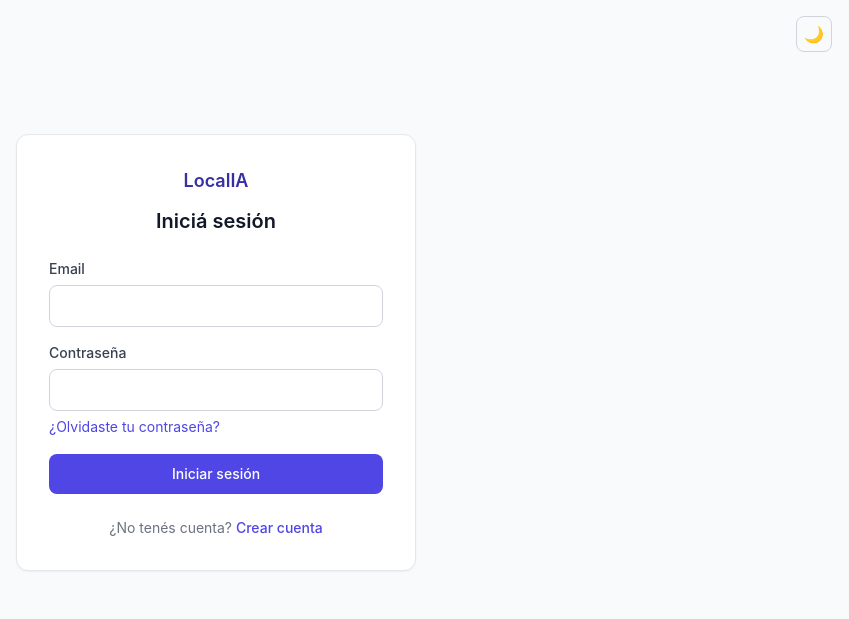
Scenario: LoginPage › muestra un error genérico si las credenciales son incorrectas
Type "marina@ejemplo.com" into the field labelled "Email".
click(216, 306); type("marina@ejemplo.com")  # box [49,284,383,326]
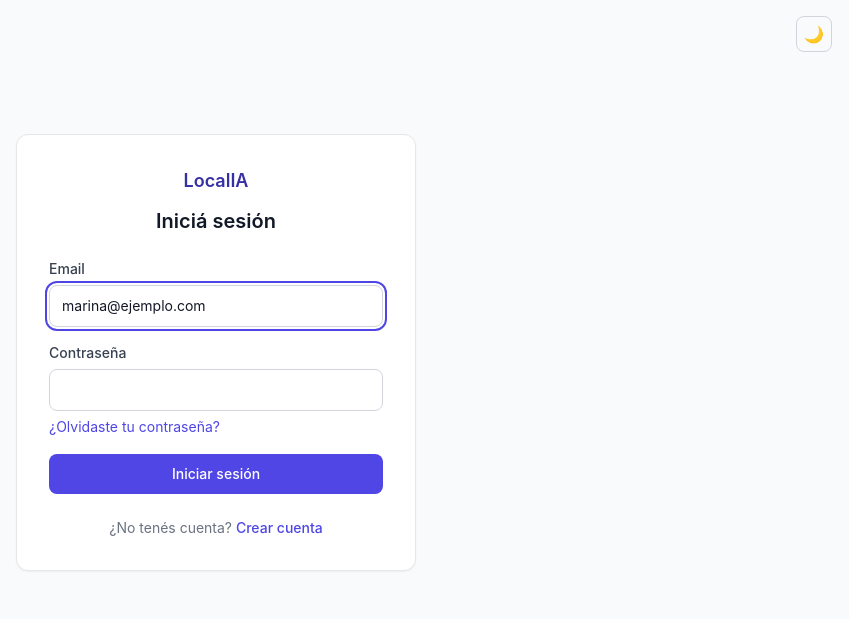
Type "password-incorrecta" into the password field labelled "Contraseña".
click(216, 390); type("password-incorrecta")  # box [49,368,383,410]
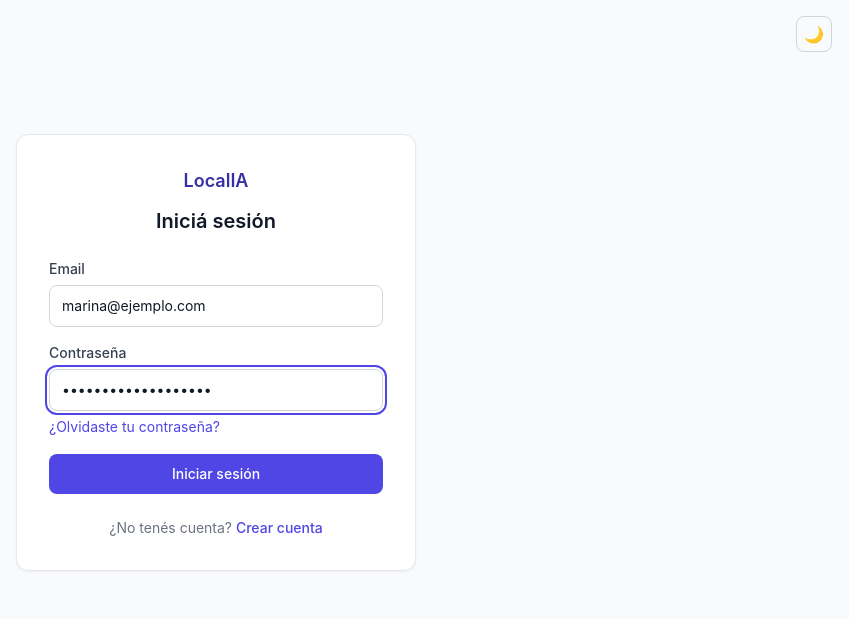
Click the button "Iniciar sesión".
click(216, 474)  # box [49,454,383,494]
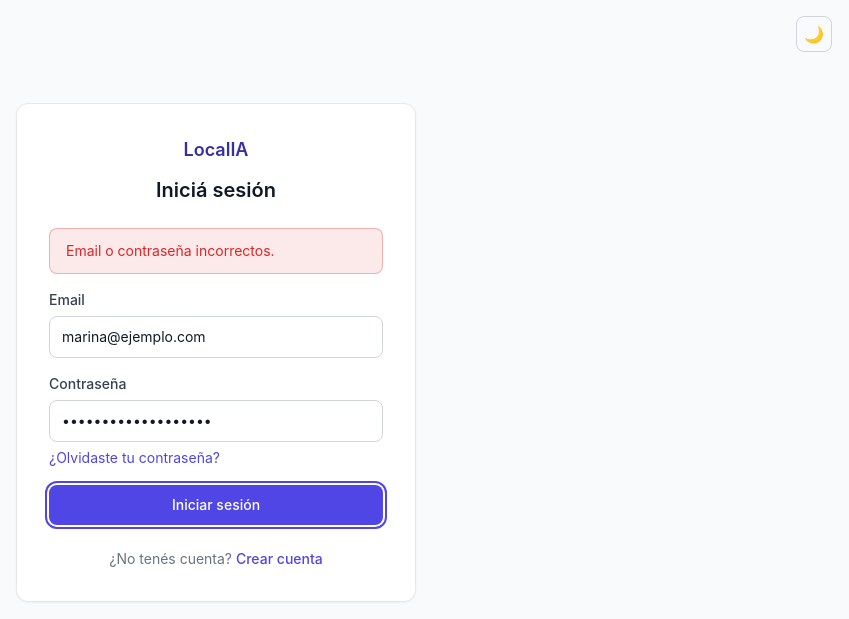
Result: the text "Email o contraseña incorrectos." is shown at [49,228,383,274]
